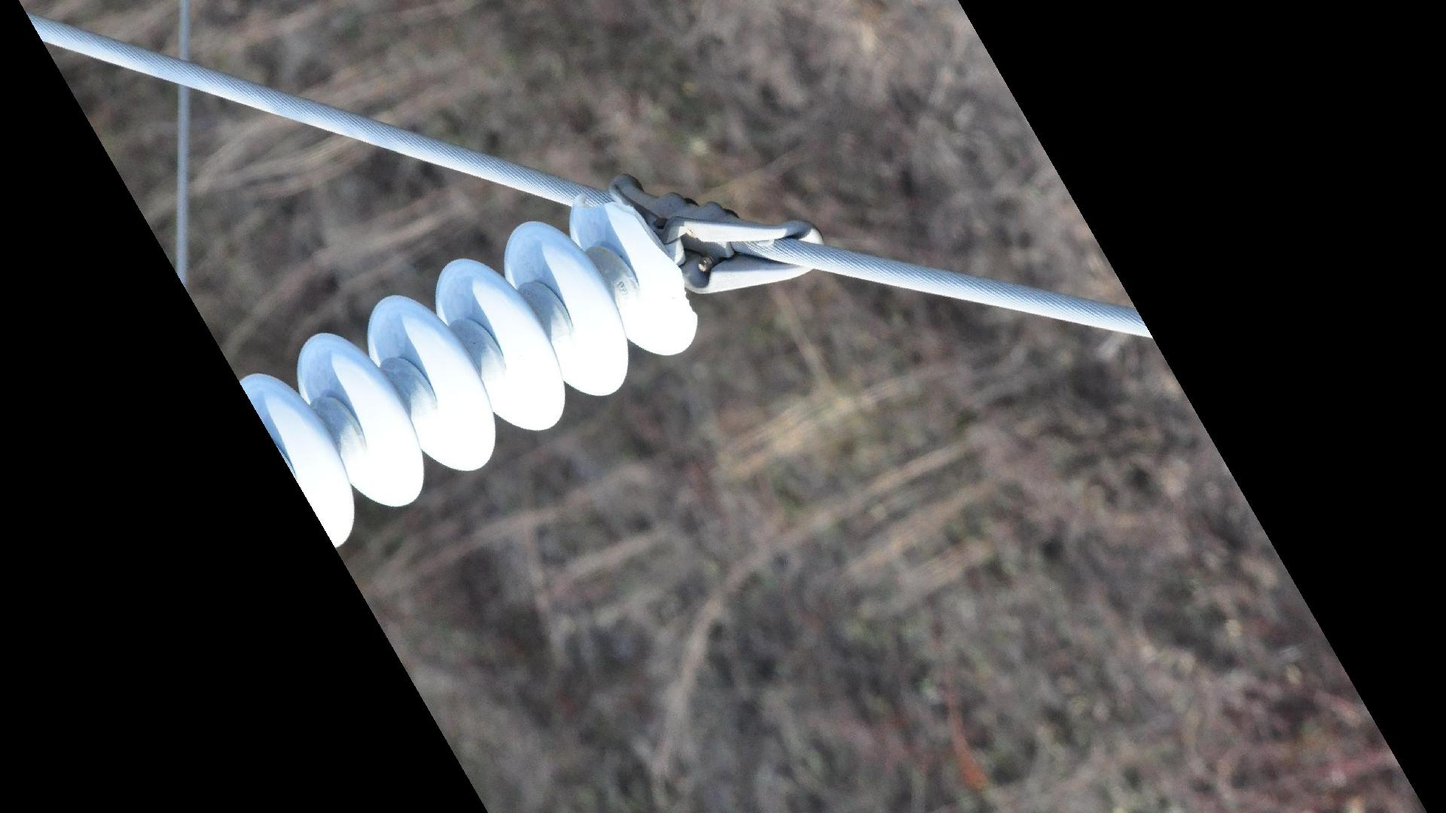insulator: (228, 181, 704, 558)
insulator_breakage: (554, 185, 713, 321)
